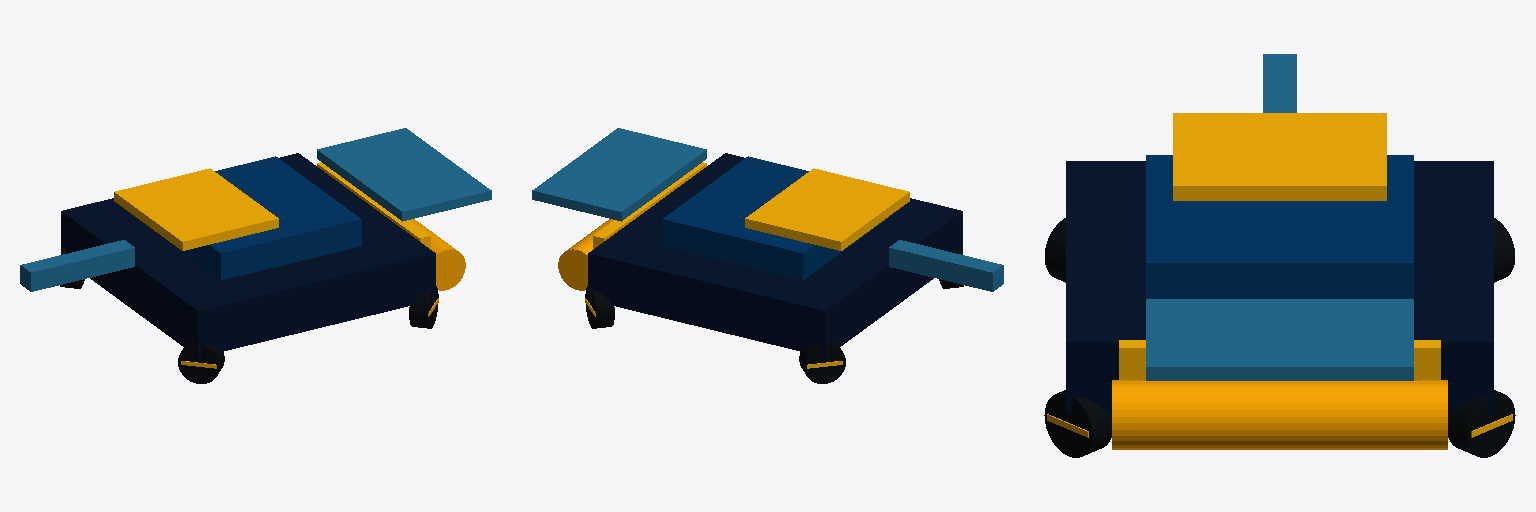
URDF robot description (eerkit_xdrive):
<?xml version='1.0' encoding='utf-8'?>
<robot name="eerkit_xdrive">
  <link name="base_link">
    <inertial>
      <mass value="8" />
      <origin xyz="0 0 0" rpy="0 0 0" />
      <inertia ixx="0.07066666666666667" iyy="0.07066666666666667" izz="0.13653333333333334" ixy="0" ixz="0" iyz="0" />
    </inertial>
    <visual>
      <origin xyz="0 0 0" rpy="0 0 0" />
      <geometry>
        <box size=".32 .32 .06" />
      </geometry>
      <material name="base_link_material">
        <color rgba=".045 .10 .20 1" />
      </material>
    </visual>
    <collision>
      <origin xyz="0 0 0" rpy="0 0 0" />
      <geometry>
        <box size=".32 .32 .06" />
      </geometry>
    </collision>
  </link>
  <link name="electronics">
    <inertial>
      <mass value="0.3" />
      <origin xyz="0 0 0" rpy="0 0 0" />
      <inertia ixx="0.001030625" iyy="0.0009331249999999999" izz="0.0019025" ixy="0" ixz="0" iyz="0" />
    </inertial>
    <visual>
      <origin xyz="0 0 0" rpy="0 0 0" />
      <geometry>
        <box size=".19 .20 .035" />
      </geometry>
      <material name="electronics_material">
        <color rgba=".025 .24 .42 1" />
      </material>
    </visual>
    <collision>
      <origin xyz="0 0 0" rpy="0 0 0" />
      <geometry>
        <box size=".19 .20 .035" />
      </geometry>
    </collision>
  </link>
  <joint name="electronics_fixed" type="fixed">
    <parent link="base_link" />
    <child link="electronics" />
    <origin xyz="0 0 .0475" rpy="0 0 0" />
    <axis xyz="0 0 1" />
  </joint>
  <link name="nose">
    <inertial>
      <mass value="0.08" />
      <origin xyz="0 0 0" rpy="0 0 0" />
      <inertia ixx="0.0003921666666666667" iyy="9.666666666666668e-06" izz="0.0003855" ixy="0" ixz="0" iyz="0" />
    </inertial>
    <visual>
      <origin xyz="0 0 0" rpy="0 0 0" />
      <geometry>
        <box size=".015 .24 .035" />
      </geometry>
      <material name="nose_material">
        <color rgba="1 .72 .04 1" />
      </material>
    </visual>
    <collision>
      <origin xyz="0 0 0" rpy="0 0 0" />
      <geometry>
        <box size=".015 .24 .035" />
      </geometry>
    </collision>
  </link>
  <joint name="nose_fixed" type="fixed">
    <parent link="base_link" />
    <child link="nose" />
    <origin xyz=".169 0 .015" rpy="0 0 0" />
    <axis xyz="0 0 1" />
  </joint>
  <link name="front_left_wheel">
    <inertial>
      <mass value="0.35" />
      <origin xyz="0 0 0" rpy="0 0 0" />
      <inertia ixx="0.00011290299999999997" iyy="0.00011290299999999997" izz="0.00011290299999999997" ixy="0" ixz="0" iyz="0" />
    </inertial>
    <visual>
      <origin xyz="0 0 0" rpy="-1.5707963267948966 0 -0.7853981633974483" />
      <geometry>
        <cylinder radius="0.0254" length="0.022" />
      </geometry>
      <material name="front_left_wheel_material">
        <color rgba=".07 .085 .10 1" />
      </material>
    </visual>
    <collision>
      <origin xyz="0 0 0" rpy="-1.5707963267948966 0 -0.7853981633974483" />
      <geometry>
        <cylinder radius="0.0254" length="0.022" />
      </geometry>
    </collision>
    <visual>
      <origin xyz="-0.008273149339882605 -0.008273149339882605 0.0" rpy="-1.5707963267948966 0 -0.7853981633974483" />
      <geometry>
        <box size="0.043179999999999996 .005 .001" />
      </geometry>
      <material name="motion_spoke">
        <color rgba="1 .72 .04 1" />
      </material>
    </visual>
    <visual>
      <origin xyz="0.008273149339882605 0.008273149339882605 0.0" rpy="-1.5707963267948966 0 -0.7853981633974483" />
      <geometry>
        <box size="0.043179999999999996 .005 .001" />
      </geometry>
      <material name="motion_spoke">
        <color rgba="1 .72 .04 1" />
      </material>
    </visual>
  </link>
  <joint name="front_left" type="continuous">
    <parent link="base_link" />
    <child link="front_left_wheel" />
    <origin xyz="0.15 0.15 -0.04" rpy="0 0 0" />
    <axis xyz="0.7071067811865476 0.7071067811865476 0" />
    <dynamics damping="0.0001" friction="0" />
    <limit effort="60" velocity="200" />
  </joint>
  <link name="front_right_wheel">
    <inertial>
      <mass value="0.35" />
      <origin xyz="0 0 0" rpy="0 0 0" />
      <inertia ixx="0.00011290299999999997" iyy="0.00011290299999999997" izz="0.00011290299999999997" ixy="0" ixz="0" iyz="0" />
    </inertial>
    <visual>
      <origin xyz="0 0 0" rpy="-1.5707963267948966 0 0.7853981633974483" />
      <geometry>
        <cylinder radius="0.0254" length="0.022" />
      </geometry>
      <material name="front_right_wheel_material">
        <color rgba=".07 .085 .10 1" />
      </material>
    </visual>
    <collision>
      <origin xyz="0 0 0" rpy="-1.5707963267948966 0 0.7853981633974483" />
      <geometry>
        <cylinder radius="0.0254" length="0.022" />
      </geometry>
    </collision>
    <visual>
      <origin xyz="0.008273149339882605 -0.008273149339882605 0.0" rpy="-1.5707963267948966 0 0.7853981633974483" />
      <geometry>
        <box size="0.043179999999999996 .005 .001" />
      </geometry>
      <material name="motion_spoke">
        <color rgba="1 .72 .04 1" />
      </material>
    </visual>
    <visual>
      <origin xyz="-0.008273149339882605 0.008273149339882605 0.0" rpy="-1.5707963267948966 0 0.7853981633974483" />
      <geometry>
        <box size="0.043179999999999996 .005 .001" />
      </geometry>
      <material name="motion_spoke">
        <color rgba="1 .72 .04 1" />
      </material>
    </visual>
  </link>
  <joint name="front_right" type="continuous">
    <parent link="base_link" />
    <child link="front_right_wheel" />
    <origin xyz="0.15 -0.15 -0.04" rpy="0 0 0" />
    <axis xyz="-0.7071067811865476 0.7071067811865476 0" />
    <dynamics damping="0.0001" friction="0" />
    <limit effort="60" velocity="200" />
  </joint>
  <link name="back_left_wheel">
    <inertial>
      <mass value="0.35" />
      <origin xyz="0 0 0" rpy="0 0 0" />
      <inertia ixx="0.00011290299999999997" iyy="0.00011290299999999997" izz="0.00011290299999999997" ixy="0" ixz="0" iyz="0" />
    </inertial>
    <visual>
      <origin xyz="0 0 0" rpy="-1.5707963267948966 0 0.7853981633974483" />
      <geometry>
        <cylinder radius="0.0254" length="0.022" />
      </geometry>
      <material name="back_left_wheel_material">
        <color rgba=".07 .085 .10 1" />
      </material>
    </visual>
    <collision>
      <origin xyz="0 0 0" rpy="-1.5707963267948966 0 0.7853981633974483" />
      <geometry>
        <cylinder radius="0.0254" length="0.022" />
      </geometry>
    </collision>
    <visual>
      <origin xyz="0.008273149339882605 -0.008273149339882605 0.0" rpy="-1.5707963267948966 0 0.7853981633974483" />
      <geometry>
        <box size="0.043179999999999996 .005 .001" />
      </geometry>
      <material name="motion_spoke">
        <color rgba="1 .72 .04 1" />
      </material>
    </visual>
    <visual>
      <origin xyz="-0.008273149339882605 0.008273149339882605 0.0" rpy="-1.5707963267948966 0 0.7853981633974483" />
      <geometry>
        <box size="0.043179999999999996 .005 .001" />
      </geometry>
      <material name="motion_spoke">
        <color rgba="1 .72 .04 1" />
      </material>
    </visual>
  </link>
  <joint name="back_left" type="continuous">
    <parent link="base_link" />
    <child link="back_left_wheel" />
    <origin xyz="-0.15 0.15 -0.04" rpy="0 0 0" />
    <axis xyz="-0.7071067811865476 0.7071067811865476 0" />
    <dynamics damping="0.0001" friction="0" />
    <limit effort="60" velocity="200" />
  </joint>
  <link name="back_right_wheel">
    <inertial>
      <mass value="0.35" />
      <origin xyz="0 0 0" rpy="0 0 0" />
      <inertia ixx="0.00011290299999999997" iyy="0.00011290299999999997" izz="0.00011290299999999997" ixy="0" ixz="0" iyz="0" />
    </inertial>
    <visual>
      <origin xyz="0 0 0" rpy="-1.5707963267948966 0 -0.7853981633974483" />
      <geometry>
        <cylinder radius="0.0254" length="0.022" />
      </geometry>
      <material name="back_right_wheel_material">
        <color rgba=".07 .085 .10 1" />
      </material>
    </visual>
    <collision>
      <origin xyz="0 0 0" rpy="-1.5707963267948966 0 -0.7853981633974483" />
      <geometry>
        <cylinder radius="0.0254" length="0.022" />
      </geometry>
    </collision>
    <visual>
      <origin xyz="-0.008273149339882605 -0.008273149339882605 0.0" rpy="-1.5707963267948966 0 -0.7853981633974483" />
      <geometry>
        <box size="0.043179999999999996 .005 .001" />
      </geometry>
      <material name="motion_spoke">
        <color rgba="1 .72 .04 1" />
      </material>
    </visual>
    <visual>
      <origin xyz="0.008273149339882605 0.008273149339882605 0.0" rpy="-1.5707963267948966 0 -0.7853981633974483" />
      <geometry>
        <box size="0.043179999999999996 .005 .001" />
      </geometry>
      <material name="motion_spoke">
        <color rgba="1 .72 .04 1" />
      </material>
    </visual>
  </link>
  <joint name="back_right" type="continuous">
    <parent link="base_link" />
    <child link="back_right_wheel" />
    <origin xyz="-0.15 -0.15 -0.04" rpy="0 0 0" />
    <axis xyz="0.7071067811865476 0.7071067811865476 0" />
    <dynamics damping="0.0001" friction="0" />
    <limit effort="60" velocity="200" />
  </joint>
  <link name="intake_roller">
    <inertial>
      <mass value="0.25" />
      <origin xyz="0 0 0" rpy="0 0 0" />
      <inertia ixx="0.0013443333333333334" iyy="0.0013443333333333334" izz="0.0013443333333333334" ixy="0" ixz="0" iyz="0" />
    </inertial>
    <visual>
      <origin xyz="0 0 0" rpy="-1.5707963267948966 0 0" />
      <geometry>
        <cylinder radius="0.026" length="0.25" />
      </geometry>
      <material name="intake_roller_material">
        <color rgba="1 .67 .025 1" />
      </material>
    </visual>
    <collision>
      <origin xyz="0 0 0" rpy="-1.5707963267948966 0 0" />
      <geometry>
        <cylinder radius="0.026" length="0.25" />
      </geometry>
    </collision>
  </link>
  <joint name="intake" type="continuous">
    <parent link="base_link" />
    <child link="intake_roller" />
    <origin xyz=".195 0 -.014" rpy="0 0 0" />
    <axis xyz="0 1 0" />
    <dynamics damping="0.0001" friction="0" />
    <limit effort="60" velocity="200" />
  </joint>
  <link name="flap_link">
    <inertial>
      <mass value="0.15" />
      <origin xyz=".06 0 0" rpy="0 0 0" />
      <inertia ixx="0.0005018" iyy="0.00018179999999999997" izz="0.00068" ixy="0" ixz="0" iyz="0" />
    </inertial>
    <visual>
      <origin xyz=".06 0 0" rpy="0 0 0" />
      <geometry>
        <box size=".12 .20 .012" />
      </geometry>
      <material name="flap_link_material">
        <color rgba=".15 .45 .6 1" />
      </material>
    </visual>
    <collision>
      <origin xyz=".06 0 0" rpy="0 0 0" />
      <geometry>
        <box size=".12 .20 .012" />
      </geometry>
    </collision>
  </link>
  <joint name="flap" type="revolute">
    <parent link="base_link" />
    <child link="flap_link" />
    <origin xyz=".15 0 .055" rpy="0 0 0" />
    <axis xyz="0 -1 0" />
    <dynamics damping="0.0001" friction="0" />
    <limit effort="60" velocity="200" lower="0" upper="1.3" />
  </joint>
  <link name="lift_link">
    <inertial>
      <mass value="0.3" />
      <origin xyz="0 0 0" rpy="0 0 0" />
      <inertia ixx="0.0006435999999999999" iyy="0.0004261" izz="0.0010625" ixy="0" ixz="0" iyz="0" />
    </inertial>
    <visual>
      <origin xyz="0 0 0" rpy="0 0 0" />
      <geometry>
        <box size=".13 .16 .012" />
      </geometry>
      <material name="lift_link_material">
        <color rgba="1 .72 .04 1" />
      </material>
    </visual>
    <collision>
      <origin xyz="0 0 0" rpy="0 0 0" />
      <geometry>
        <box size=".13 .16 .012" />
      </geometry>
    </collision>
  </link>
  <joint name="lift" type="prismatic">
    <parent link="base_link" />
    <child link="lift_link" />
    <origin xyz="-.07 0 .075" rpy="0 0 0" />
    <axis xyz="0 0 1" />
    <dynamics damping="0.0001" friction="0" />
    <limit effort="60" velocity="200" lower="0" upper="0.12" />
  </joint>
  <link name="loader_link">
    <inertial>
      <mass value="0.15" />
      <origin xyz="-.07 0 0" rpy="0 0 0" />
      <inertia ixx="1.5625000000000004e-05" iyy="0.00025281250000000005" izz="0.00025281250000000005" ixy="0" ixz="0" iyz="0" />
    </inertial>
    <visual>
      <origin xyz="-.07 0 0" rpy="0 0 0" />
      <geometry>
        <box size=".14 .025 .025" />
      </geometry>
      <material name="loader_link_material">
        <color rgba=".15 .45 .6 1" />
      </material>
    </visual>
    <collision>
      <origin xyz="-.07 0 0" rpy="0 0 0" />
      <geometry>
        <box size=".14 .025 .025" />
      </geometry>
    </collision>
  </link>
  <joint name="loader" type="revolute">
    <parent link="base_link" />
    <child link="loader_link" />
    <origin xyz="-.16 0 .04" rpy="0 0 0" />
    <axis xyz="0 -1 0" />
    <dynamics damping="0.0001" friction="0" />
    <limit effort="60" velocity="200" lower="0" upper="1.3" />
  </joint>
</robot>

--- What the picture shows (computed from the rendered views, not written in the file) ---
3 views of the same robot in one strip: view 1: azimuth 30°, elevation 25°; view 2: azimuth 150°, elevation 25°; view 3: azimuth 270°, elevation 25° (orthographic).
Model eerkit_xdrive with 11 links and 10 joints (2 revolute, 5 continuous, 1 prismatic, 2 fixed), rooted at base_link, posed all joints at 0.
Links seen in each view (by area): view 1: base_link, electronics, flap_link, lift_link, loader_link, back_right_wheel, intake_roller, nose, front_right_wheel; view 2: base_link, electronics, flap_link, lift_link, loader_link, back_left_wheel, intake_roller, nose, front_left_wheel; view 3: base_link, electronics, intake_roller, flap_link, lift_link, front_left_wheel, front_right_wheel, nose, loader_link, back_left_wheel, back_right_wheel.
Link boxes in pixels (x1,y1,x2,y2): base_link: (61, 153, 435, 357); electronics: (135, 156, 361, 279); flap_link: (317, 128, 491, 221); lift_link: (114, 168, 278, 250); loader_link: (20, 240, 134, 291); back_right_wheel: (178, 343, 224, 383); intake_roller: (410, 219, 465, 290); nose: (317, 162, 430, 249); front_right_wheel: (409, 286, 438, 328); base_link: (588, 153, 962, 357); electronics: (662, 156, 888, 279); flap_link: (532, 128, 706, 221); lift_link: (745, 168, 909, 250); loader_link: (889, 240, 1003, 291); back_left_wheel: (799, 343, 845, 383); intake_roller: (558, 219, 613, 290); nose: (593, 162, 706, 249); front_left_wheel: (585, 286, 614, 328); base_link: (1066, 161, 1493, 414); electronics: (1146, 155, 1413, 298); intake_roller: (1112, 380, 1447, 449); flap_link: (1146, 299, 1413, 380); lift_link: (1173, 113, 1386, 200); front_left_wheel: (1448, 390, 1515, 457); front_right_wheel: (1044, 390, 1111, 457); nose: (1119, 340, 1440, 379); loader_link: (1263, 54, 1296, 112); back_left_wheel: (1494, 218, 1514, 282); back_right_wheel: (1045, 218, 1065, 282).
Size in the robot's own frame: 0.57 by 0.3515 by 0.1464 metres.
Geometry: primitives only (box / cylinder / sphere), no mesh files.
